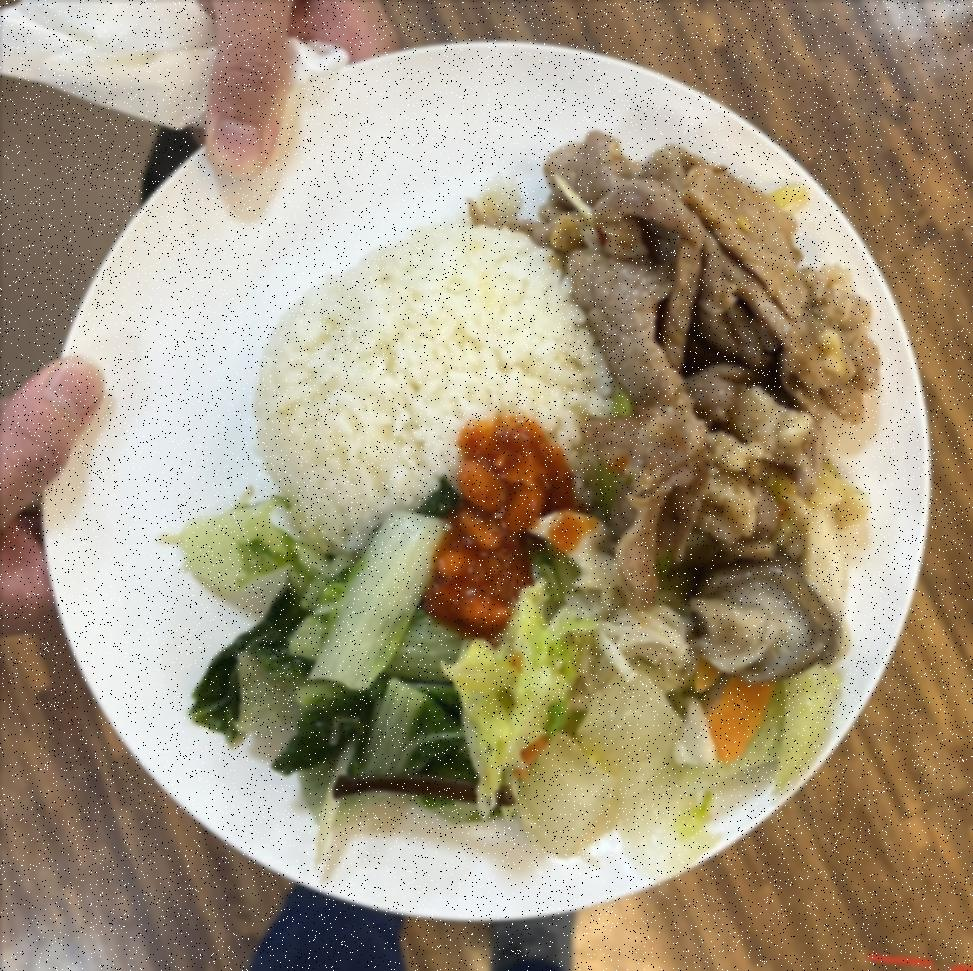garlic white meat: (535, 104, 882, 584)
plate: (24, 37, 938, 922)
side dish: (480, 524, 862, 855), (181, 512, 488, 827)
white rice: (250, 206, 614, 548)
